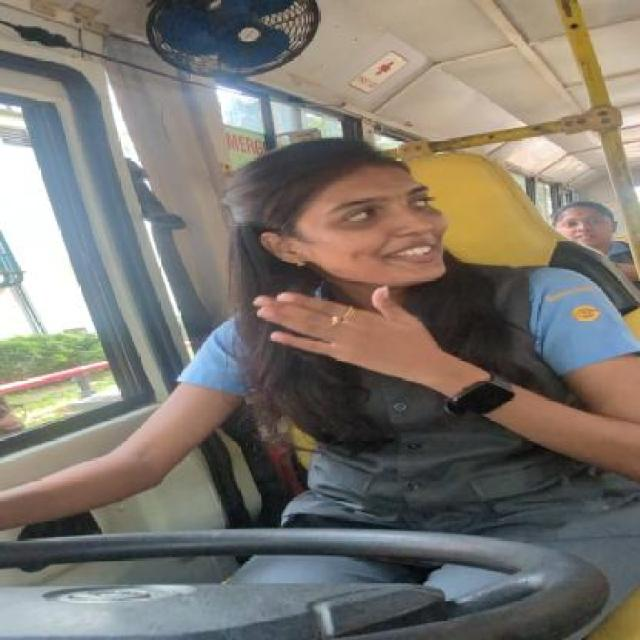Inattentive: (213, 135, 452, 292)
